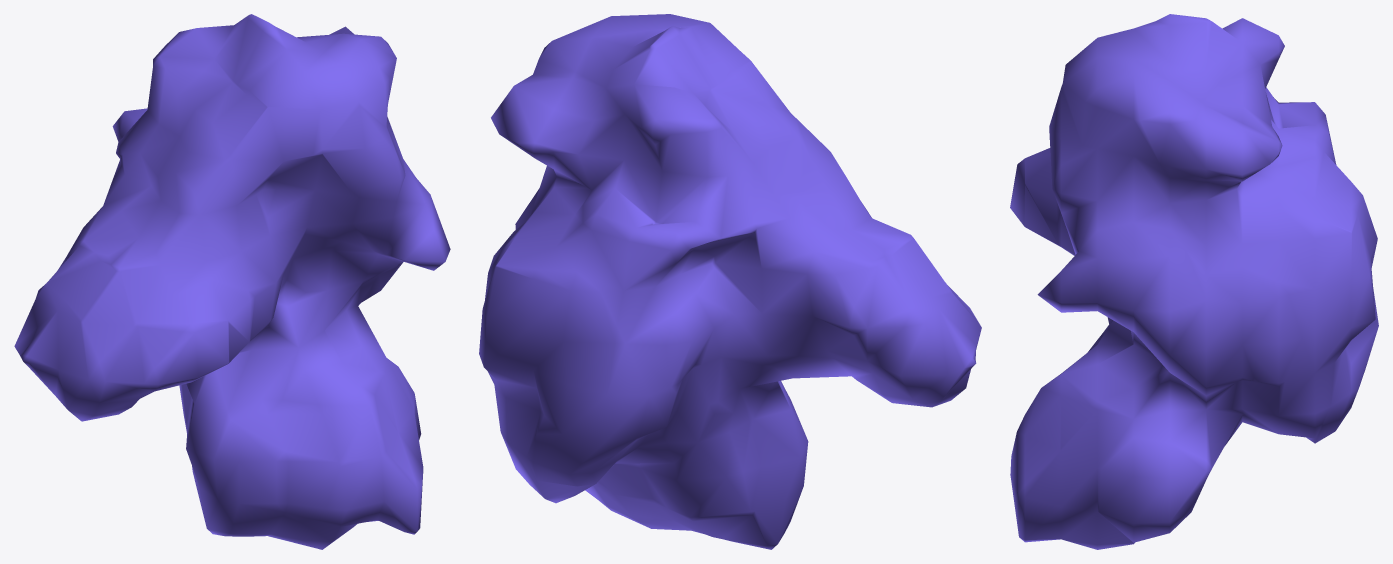
Rendered from Vesicle_17AAligned3.fbx.
The picture shows the model from 3 angles, left to right: view 1: azimuth 30°, elevation 25°; view 2: azimuth 150°, elevation 25°; view 3: azimuth 270°, elevation 25°; orthographic projection. The views are drawn at different scales.
Visible parts, largest first — view 1: vesicle_MeshVes17Mesh; view 2: vesicle_MeshVes17Mesh; view 3: vesicle_MeshVes17Mesh.
Part boxes in pixels (x1,y1,x2,y2): vesicle_MeshVes17Mesh: (14,14,450,549); vesicle_MeshVes17Mesh: (479,14,981,549); vesicle_MeshVes17Mesh: (1010,14,1378,549).
Size of the model in its own units: 67.71 by 77.21 by 51.49.
